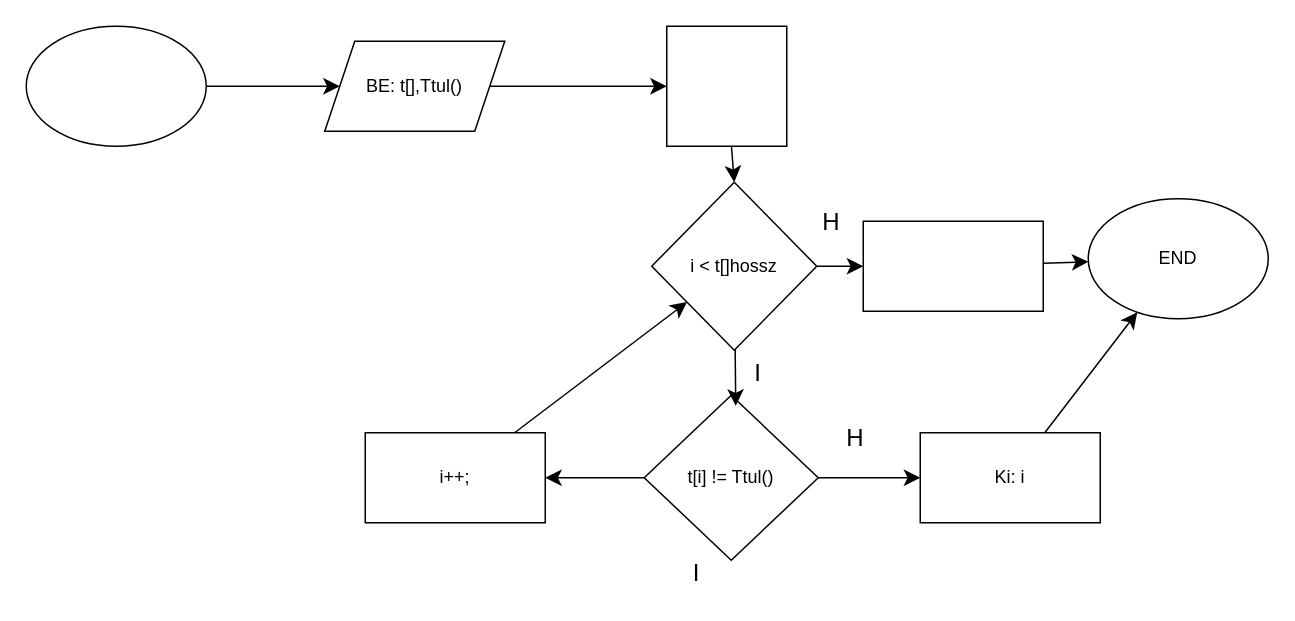
Some shapes in this 1295 by 621 pixel diagram are drawn without their labels. The shapes that lost their labels are listed below. From the top down, each one's box as (x1, y1, x2, y2) in pixels, then its label:
(25, 25, 206, 146): START
(665, 25, 787, 146): i = 0
(862, 220, 1043, 311): Ki: i-1
